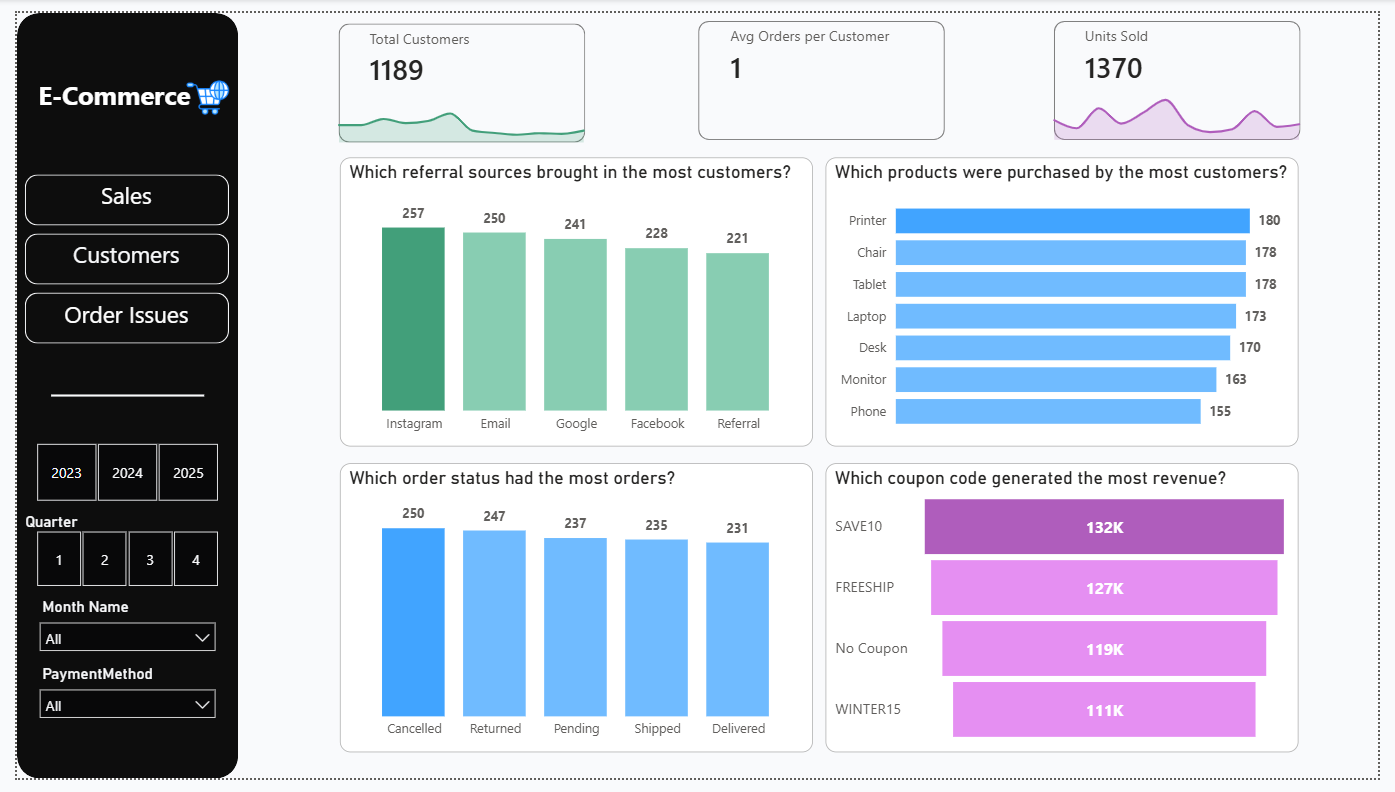

What the dashboard file says about the page in this screenshot:
{"tool":"powerbi","page":{"name":"Customers","canvas":[1280,720],"ordinal":1},"visuals":[{"type":"shape","box":[0,0,208,720],"z":0},{"type":"textbox","box":[7.7,55,168,48],"z":0,"group":"g4"},{"type":"image","box":[159.7,55,40,48],"z":1000,"group":"g4"},{"type":"slicer","fields":{"Values":["Date.Year"]},"box":[0,400,208,64],"z":1000},{"type":"slicer","fields":{"Values":["Date.Month Name"]},"box":[16,544,176,64],"z":2000},{"type":"slicer","fields":{"Values":["Date.Quarter"]},"box":[0,464,208,80],"z":3000},{"type":"slicer","fields":{"Values":["Sales.PaymentMethod"]},"box":[16,608,176,64],"z":4000},{"type":"textbox","box":[16,207.3,176,56],"z":4500,"group":"g2"},{"type":"shape","box":[8,207.3,192,48],"z":5000,"group":"g2"},{"type":"shape","box":[32,336,144,48],"z":5000},{"type":"textbox","box":[16,263.3,176,48],"z":5500,"group":"g3"},{"type":"group","id":"g1","title":"Group 1","box":[8,151.3,192,48],"z":6000},{"type":"shape","box":[8,263.3,192,48],"z":6000,"group":"g3"},{"type":"textbox","box":[16,151.3,176,48],"z":6500,"group":"g1"},{"type":"shape","box":[8,151.3,192,48],"z":7000,"group":"g1"},{"type":"group","id":"g2","title":"Group 2","box":[8,207.3,192,56],"z":7000},{"type":"group","id":"g3","title":"Group 3","box":[8,263.3,192,48],"z":8000},{"type":"group","id":"g4","title":"Group 4","box":[7.7,55,192,48],"z":9000},{"type":"group","id":"g5","title":"Group 5","box":[288,1.9,264,120],"z":10000},{"type":"shape","box":[302.6,9.9,232,112],"z":10000,"group":"g5"},{"type":"group","id":"g6","title":"Group 6","box":[640.6,0.1,232,120],"z":11000},{"type":"group","id":"g7","title":"Group 6","box":[960,0,264,128],"z":12000},{"type":"shape","box":[974.6,8,232,112],"z":13000,"group":"g7"},{"type":"shape","box":[640.6,8.1,232,112],"z":13000,"group":"g6"},{"type":"columnChart","title":"Which referral sources brought in the most customers?","fields":{"Category":["Sales.ReferralSource"],"Y":["Calculated.Total Customers"]},"box":[304,136,445,272],"z":13000},{"type":"clusteredBarChart","title":"Which products were purchased by the most customers?","fields":{"Category":["Sales.Product"],"Y":["Calculated.Total Customers"]},"box":[760,136,445,272],"z":14000},{"type":"cardVisual","fields":{"Data":["Calculated.Units Sold"]},"box":[974.6,0,152,80],"z":15000,"group":"g7"},{"type":"cardVisual","fields":{"Data":["Calculated.Avg Orders per Customer"]},"box":[642,0.1,208,80],"z":15000,"group":"g6"},{"type":"columnChart","title":"Which order status had the most orders?","fields":{"Category":["Sales.OrderStatus"],"Y":["Calculated.Total Orders"]},"box":[304,424,445,272],"z":15000},{"type":"funnel","title":"Which coupon code generated the most revenue?","fields":{"Category":["Sales.CouponCode"],"Y":["Calculated.Revenue"]},"box":[760,424,445,272],"z":16000},{"type":"cardVisual","fields":{"Data":["Calculated.Total Customers"]},"box":[302.6,1.9,200,80],"z":19000,"group":"g5"},{"type":"lineChart","fields":{"Category":["Date.Date.Variation.Date Hierarchy.Month"],"Y":["Calculated.Total Customers"]},"box":[288,64.5,260,61],"z":20000,"group":"g5"},{"type":"lineChart","fields":{"Category":["Date.Date.Variation.Date Hierarchy.Month"],"Y":["Calculated.Units Sold"]},"box":[960,62.6,260,61],"z":21000,"group":"g7"}]}

Visuals, with their boxes in screenshot pixels (x1, y1, x2, y2), scaled from the page's 1280x720 canvas onto the 1395x792 screenshot:
shape: left=0, top=0, right=227, bottom=791
textbox: left=8, top=61, right=191, bottom=113
image: left=174, top=61, right=218, bottom=113
slicer - Date.Year: left=0, top=440, right=227, bottom=510
slicer - Date.Month Name: left=17, top=598, right=209, bottom=669
slicer - Date.Quarter: left=0, top=510, right=227, bottom=598
slicer - Sales.PaymentMethod: left=17, top=669, right=209, bottom=739
textbox: left=17, top=228, right=209, bottom=290
shape: left=9, top=228, right=218, bottom=281
shape: left=35, top=370, right=192, bottom=422
textbox: left=17, top=290, right=209, bottom=342
"Group 1" group: left=9, top=166, right=218, bottom=219
shape: left=9, top=290, right=218, bottom=342
textbox: left=17, top=166, right=209, bottom=219
shape: left=9, top=166, right=218, bottom=219
"Group 2" group: left=9, top=228, right=218, bottom=290
"Group 3" group: left=9, top=290, right=218, bottom=342
"Group 4" group: left=8, top=61, right=218, bottom=113
"Group 5" group: left=314, top=2, right=602, bottom=134
shape: left=330, top=11, right=583, bottom=134
"Group 6" group: left=698, top=0, right=951, bottom=132
"Group 6" group: left=1046, top=0, right=1334, bottom=141
shape: left=1062, top=9, right=1315, bottom=132
shape: left=698, top=9, right=951, bottom=132
"Which referral sources brought in the most customers?" columnChart: left=331, top=150, right=816, bottom=449
"Which products were purchased by the most customers?" clusteredBarChart: left=828, top=150, right=1313, bottom=449
cardVisual - Calculated.Units Sold: left=1062, top=0, right=1228, bottom=88
cardVisual - Calculated.Avg Orders per Customer: left=700, top=0, right=926, bottom=88
"Which order status had the most orders?" columnChart: left=331, top=466, right=816, bottom=766
"Which coupon code generated the most revenue?" funnel: left=828, top=466, right=1313, bottom=766
cardVisual - Calculated.Total Customers: left=330, top=2, right=548, bottom=90
lineChart - Date.Date.Variation.Date Hierarchy.Month x Calculated.Total Customers: left=314, top=71, right=597, bottom=138
lineChart - Date.Date.Variation.Date Hierarchy.Month x Calculated.Units Sold: left=1046, top=69, right=1330, bottom=136
